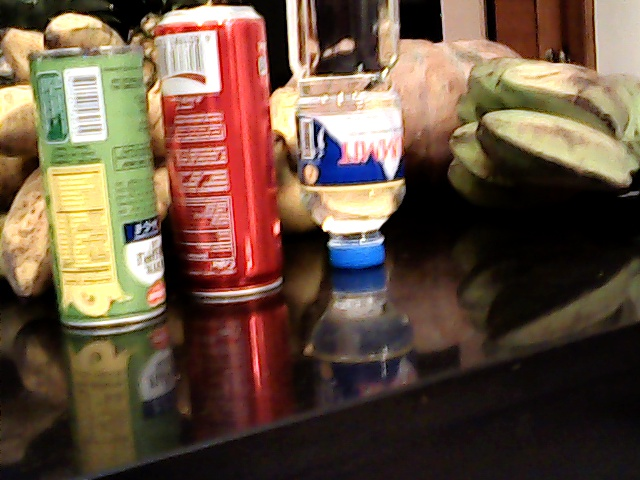Cola: (155, 2, 296, 300)
Pine Juice: (35, 47, 163, 333)
Summit Water: (293, 1, 422, 281)
